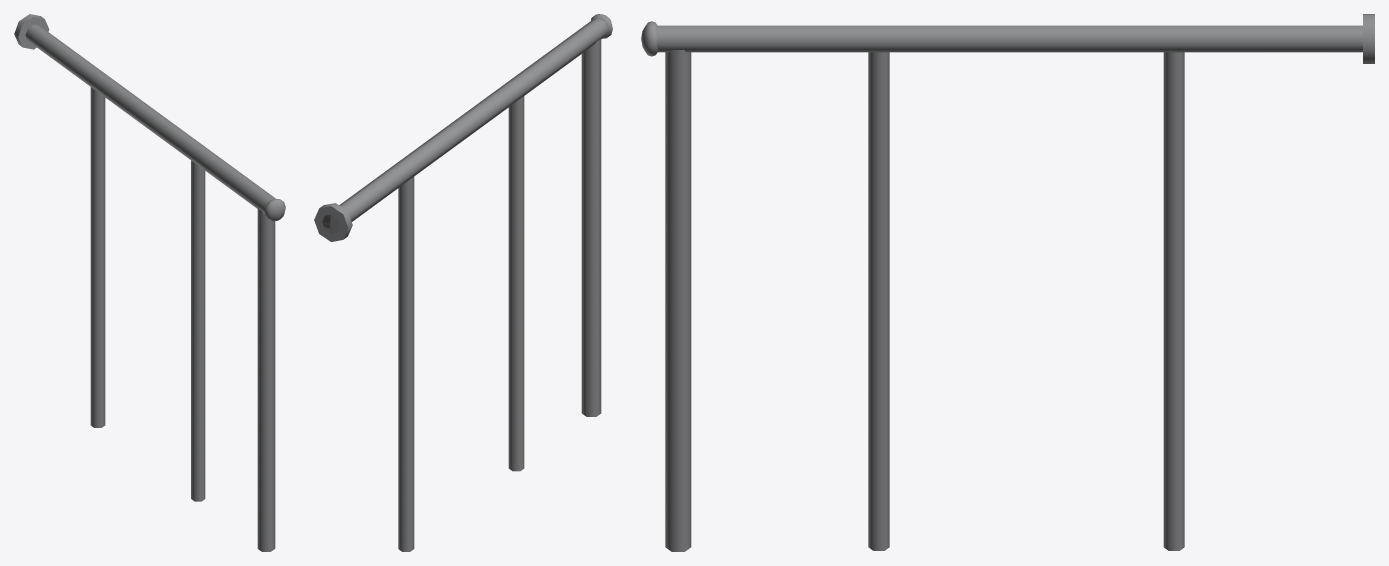
3 renders of one model, left to right at view 1: azimuth 30°, elevation 25°; view 2: azimuth 150°, elevation 25°; view 3: azimuth 270°, elevation 25°, orthographic. The views are drawn at different scales.
Bounding box in the file's own units: 0.09 × 0.995 × 1.24.
